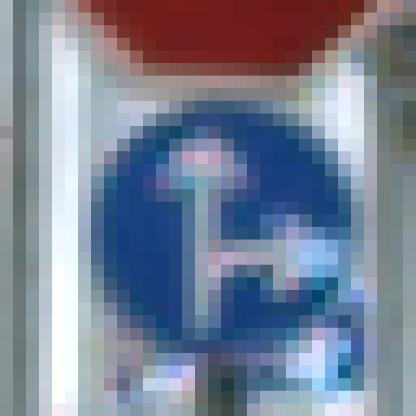Straight or Right: (79, 77, 339, 341)
